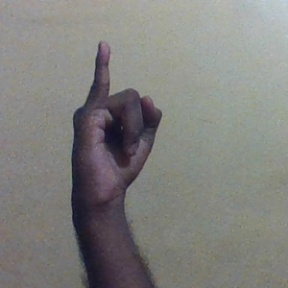I: (69, 41, 164, 198)
